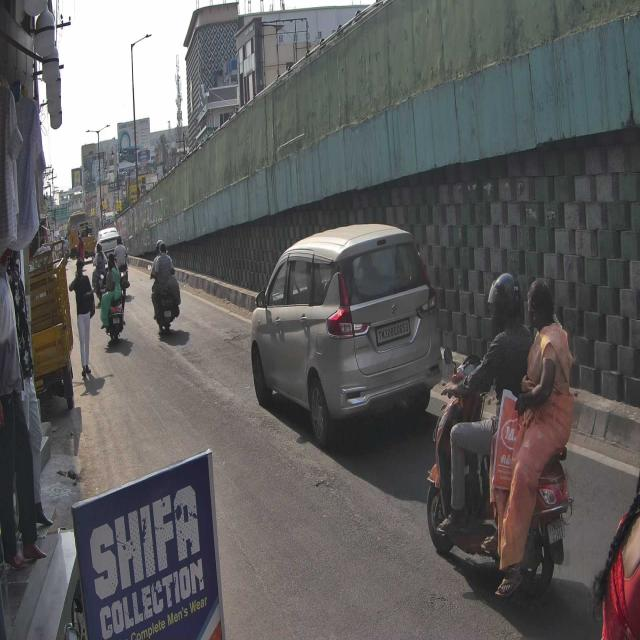double_rider: (426, 271, 577, 602)
